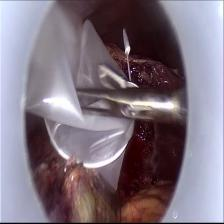Grasper: (76, 61, 188, 134)
Specimen Bag: (24, 4, 131, 192)
